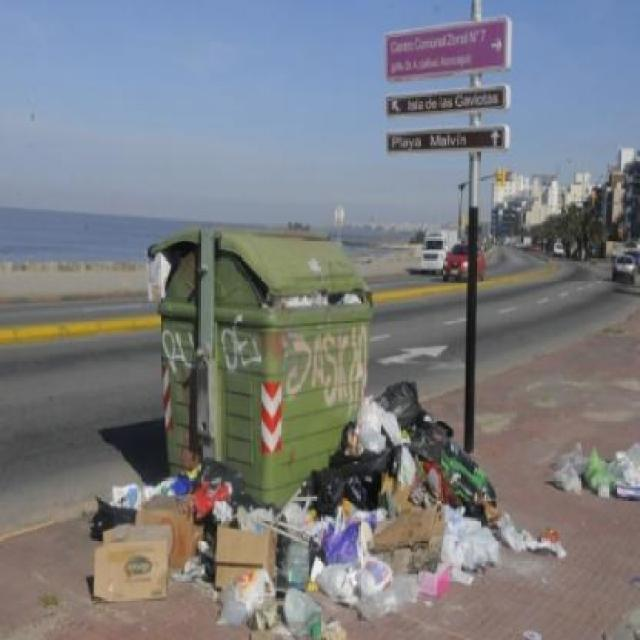garbage: (80, 468, 362, 635), (341, 411, 506, 600), (553, 443, 639, 502), (512, 517, 584, 566), (142, 236, 180, 307), (363, 376, 432, 410)
